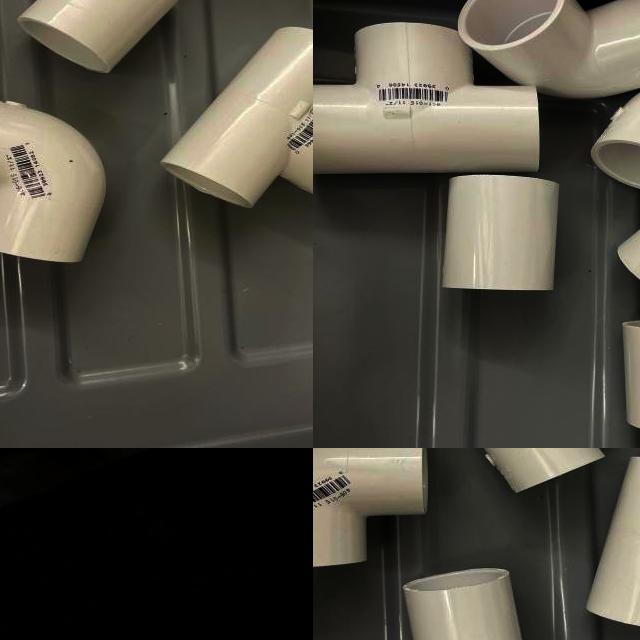L Joint: (0, 100, 108, 266), (464, 0, 640, 100), (313, 448, 431, 571), (479, 448, 605, 495)
T Joint: (313, 22, 541, 178), (159, 27, 313, 210), (586, 457, 640, 627)
